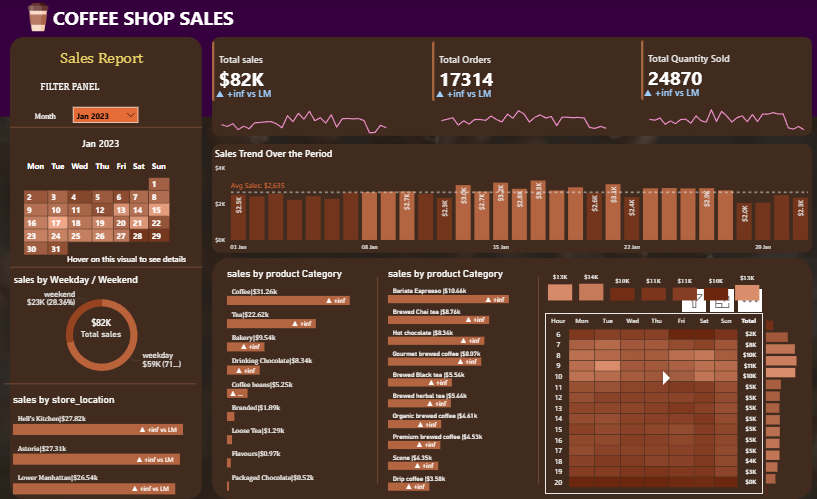

The page's visual inventory and layout, read from the dashboard file:
{"tool":"powerbi","page":{"name":"Coffee Shop Sales","canvas":[1400,850],"ordinal":0},"visuals":[{"type":"shape","box":[0,0,1399,200],"z":0},{"type":"shape","box":[22.1,64.6,326.4,785.4],"z":1000},{"type":"shape","box":[365.5,64.6,1020,168.3],"z":2000},{"type":"textbox","box":[90.1,3.4,336.6,61.2],"z":3000},{"type":"slicer","fields":{"Values":["Data Table.Month Year"]},"box":[124.1,178.5,120.7,37.4],"z":4000},{"type":"cardVisual","fields":{"Data":["Transactions.Total Quantity Sold"]},"box":[1077.8,52.7,307.7,137.7],"z":5000,"group":"g4"},{"type":"group","id":"g1","title":"Group 1","box":[348.5,54.4,328.1,180.2],"z":5000},{"type":"cardVisual","fields":{"Data":["Transactions.Total sales"]},"box":[348.5,54.4,326.2,137.7],"z":5000,"group":"g1"},{"type":"cardVisual","fields":{"Data":["Transactions.Total Orders"]},"box":[722.5,54.4,326.2,137.7],"z":5000,"group":"g2"},{"type":"group","id":"g2","title":"Group 1","box":[722.5,54.4,328.1,180.2],"z":6000},{"type":"lineChart","fields":{"Category":["Data Table.Date Hierarchy.Date","Data Table.Date.Variation.Date Hierarchy.Year","Data Table.Date.Variation.Date Hierarchy.Quarter","Data Table.Date.Variation.Date Hierarchy.Month","Data Table.Date.Variation.Date Hierarchy.Day"],"Y":["Transactions.Total Quantity Sold"]},"box":[1094,147.9,291.5,85],"z":6000,"group":"g4"},{"type":"lineChart","fields":{"Category":["Data Table.Date Hierarchy.Date","Data Table.Date.Variation.Date Hierarchy.Year","Data Table.Date.Variation.Date Hierarchy.Quarter","Data Table.Date.Variation.Date Hierarchy.Month","Data Table.Date.Variation.Date Hierarchy.Day"],"Y":["Transactions.Total sales"]},"box":[367.6,149.6,309,85],"z":6000,"group":"g1"},{"type":"lineChart","fields":{"Category":["Data Table.Date Hierarchy.Date","Data Table.Date.Variation.Date Hierarchy.Year","Data Table.Date.Variation.Date Hierarchy.Quarter","Data Table.Date.Variation.Date Hierarchy.Month","Data Table.Date.Variation.Date Hierarchy.Day"],"Y":["Transactions.Total Orders"]},"box":[741.6,149.6,309,85],"z":6000,"group":"g2"},{"type":"group","id":"g3","title":"Group 2","box":[1077.8,52.7,307.7,180.2],"z":7000},{"type":"pivotTable","fields":{"Rows":["Data Table.Week Number"],"Columns":["Data Table.Day Name"],"Values":["Min(Data Table.Day Number)"]},"box":[21.7,268.3,326.7,171.7],"z":8000},{"type":"cardVisual","fields":{"Data":["Min(Data Table.Month Year)"]},"box":[115,220,138.3,51.7],"z":9000},{"type":"cardVisual","fields":{"Data":["Transactions.Foot Note"]},"box":[90,415,266.7,50],"z":10000},{"type":"shape","box":[21.7,440,326.7,31.7],"z":11000},{"type":"shape","box":[21.7,201.7,326.7,31.7],"z":12000},{"type":"donutChart","title":"sales by Weekday / Weekend","fields":{"Y":["Transactions.Total sales"],"Category":["Data Table.Weekday / Weekend"]},"box":[23.3,465,308.3,190],"z":13000},{"type":"cardVisual","fields":{"Data":["Transactions.Total sales"]},"box":[108.8,518.5,136,79.9],"z":14000},{"type":"group","id":"g4","title":"Group 3","box":[1077.8,52.7,307.7,180.2],"z":14001,"group":"g3"},{"type":"shape","box":[11.7,638.3,326.7,33.3],"z":15000},{"type":"clusteredBarChart","title":"sales by store_location","fields":{"Y":["Transactions.Placeholder","Transactions.Total sales"],"Category":["Transactions.store_location"]},"box":[21.7,671.7,326.7,178.3],"z":16000},{"type":"shape","box":[365.5,440.3,1020,409.7],"z":17000},{"type":"shape","box":[365.5,246.5,1020,185],"z":18000},{"type":"columnChart","title":"Sales Trend Over the Period","fields":{"Category":["Transactions.transaction_date"],"Y":["Transactions.Total sales"]},"box":[365.5,251.6,1020,185],"z":19000},{"type":"clusteredBarChart","title":"sales by product Category","fields":{"Y":["Transactions.Placeholder","Transactions.Total sales"],"Category":["Transactions.product_category"]},"box":[385.9,457.3,249.9,384.2],"z":20000},{"type":"shape","box":[635.8,472.6,22.1,351.9],"z":21000},{"type":"clusteredBarChart","title":"sales by product Category","fields":{"Y":["Transactions.Placeholder","Transactions.Total sales"],"Category":["Transactions.product_type"]},"box":[659.6,457.3,249.9,384.2],"z":22000},{"type":"shape","box":[909.5,472.6,22.1,351.9],"z":23000},{"type":"pivotTable","fields":{"Rows":["Transactions.Hour"],"Columns":["Data Table.Day Name"],"Values":["Transactions.Total sales"]},"box":[931.6,533.8,370.6,307.7],"z":24000},{"type":"barChart","fields":{"Category":["Transactions.Hour"],"Y":["Transactions.Total sales"]},"box":[1302.2,533.8,84,315],"z":25000},{"type":"columnChart","fields":{"Y":["Transactions.Total sales"],"Category":["Data Table.Day Name"]},"box":[931.6,455.6,370.6,62.9],"z":26000},{"type":"textbox","box":[39.1,185.3,85,30.6],"z":27000},{"type":"textbox","box":[102,78.2,164.9,44.2],"z":28000},{"type":"textbox","box":[40.8,134.3,166.6,32.3],"z":29000},{"type":"image","box":[37.4,6.8,64.6,47.6],"z":30000}]}

Visuals, with their boxes in screenshot pixels (x1, y1, x2, y2), scaled from the page's 1400x850 canvas onto the 817x499 screenshot:
shape: (x1=0, y1=0, x2=816, y2=117)
shape: (x1=13, y1=38, x2=203, y2=498)
shape: (x1=213, y1=38, x2=809, y2=137)
textbox: (x1=53, y1=2, x2=249, y2=38)
slicer - Data Table.Month Year: (x1=72, y1=105, x2=143, y2=127)
cardVisual - Transactions.Total Quantity Sold: (x1=629, y1=31, x2=809, y2=112)
"Group 1" group: (x1=203, y1=32, x2=395, y2=138)
cardVisual - Transactions.Total sales: (x1=203, y1=32, x2=394, y2=113)
cardVisual - Transactions.Total Orders: (x1=422, y1=32, x2=612, y2=113)
"Group 1" group: (x1=422, y1=32, x2=613, y2=138)
lineChart - Data Table.Date Hierarchy.Date x Data Table.Date.Variation.Date Hierarchy.Year: (x1=638, y1=87, x2=809, y2=137)
lineChart - Data Table.Date Hierarchy.Date x Data Table.Date.Variation.Date Hierarchy.Year: (x1=215, y1=88, x2=395, y2=138)
lineChart - Data Table.Date Hierarchy.Date x Data Table.Date.Variation.Date Hierarchy.Year: (x1=433, y1=88, x2=613, y2=138)
"Group 2" group: (x1=629, y1=31, x2=809, y2=137)
pivotTable - Data Table.Week Number x Data Table.Day Name: (x1=13, y1=158, x2=203, y2=258)
cardVisual - Min(Data Table.Month Year): (x1=67, y1=129, x2=148, y2=160)
cardVisual - Transactions.Foot Note: (x1=53, y1=244, x2=208, y2=273)
shape: (x1=13, y1=258, x2=203, y2=277)
shape: (x1=13, y1=118, x2=203, y2=137)
"sales by Weekday / Weekend" donutChart: (x1=14, y1=273, x2=194, y2=385)
cardVisual - Transactions.Total sales: (x1=63, y1=304, x2=143, y2=351)
"Group 3" group: (x1=629, y1=31, x2=809, y2=137)
shape: (x1=7, y1=375, x2=197, y2=394)
"sales by store_location" clusteredBarChart: (x1=13, y1=394, x2=203, y2=498)
shape: (x1=213, y1=258, x2=809, y2=498)
shape: (x1=213, y1=145, x2=809, y2=253)
"Sales Trend Over the Period" columnChart: (x1=213, y1=148, x2=809, y2=256)
"sales by product Category" clusteredBarChart: (x1=225, y1=268, x2=371, y2=494)
shape: (x1=371, y1=277, x2=384, y2=484)
"sales by product Category" clusteredBarChart: (x1=385, y1=268, x2=531, y2=494)
shape: (x1=531, y1=277, x2=544, y2=484)
pivotTable - Transactions.Hour x Data Table.Day Name: (x1=544, y1=313, x2=760, y2=494)
barChart - Transactions.Hour x Transactions.Total sales: (x1=760, y1=313, x2=809, y2=498)
columnChart - Transactions.Total sales x Data Table.Day Name: (x1=544, y1=267, x2=760, y2=304)
textbox: (x1=23, y1=109, x2=72, y2=127)
textbox: (x1=60, y1=46, x2=156, y2=72)
textbox: (x1=24, y1=79, x2=121, y2=98)
image: (x1=22, y1=4, x2=60, y2=32)
